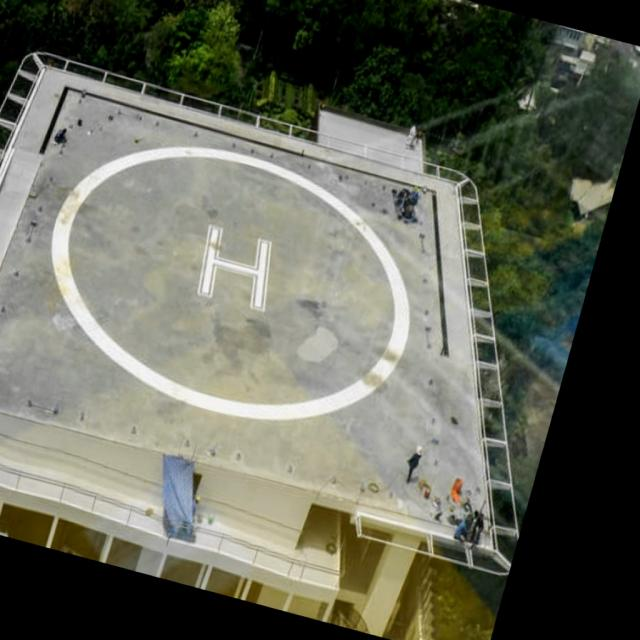helipad: (44, 137, 418, 426)
